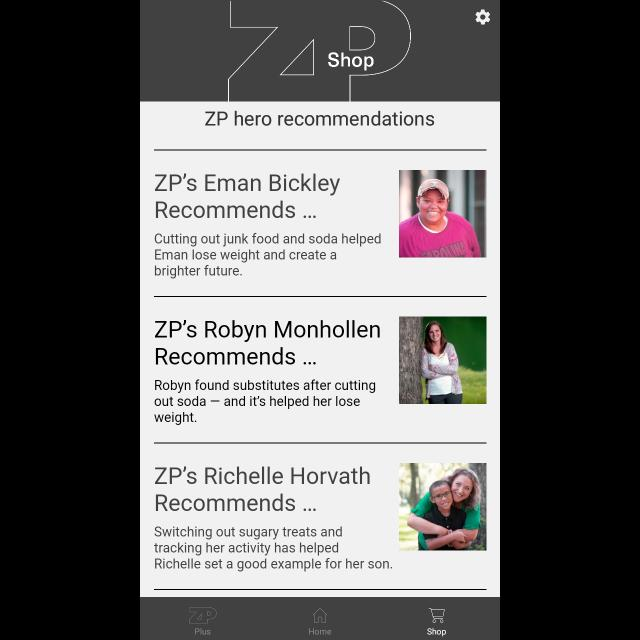icon: (312, 608, 328, 624), (476, 10, 490, 26), (428, 608, 444, 622)
image: (229, 0, 411, 101), (399, 316, 486, 404), (399, 170, 486, 258), (399, 464, 486, 550), (189, 607, 217, 623)
text: (154, 526, 392, 572), (155, 233, 381, 279), (154, 379, 376, 425), (154, 466, 370, 512), (156, 320, 380, 364), (156, 174, 340, 218), (205, 112, 435, 126), (328, 52, 374, 72), (308, 628, 332, 636), (426, 628, 446, 636), (195, 628, 211, 636)
